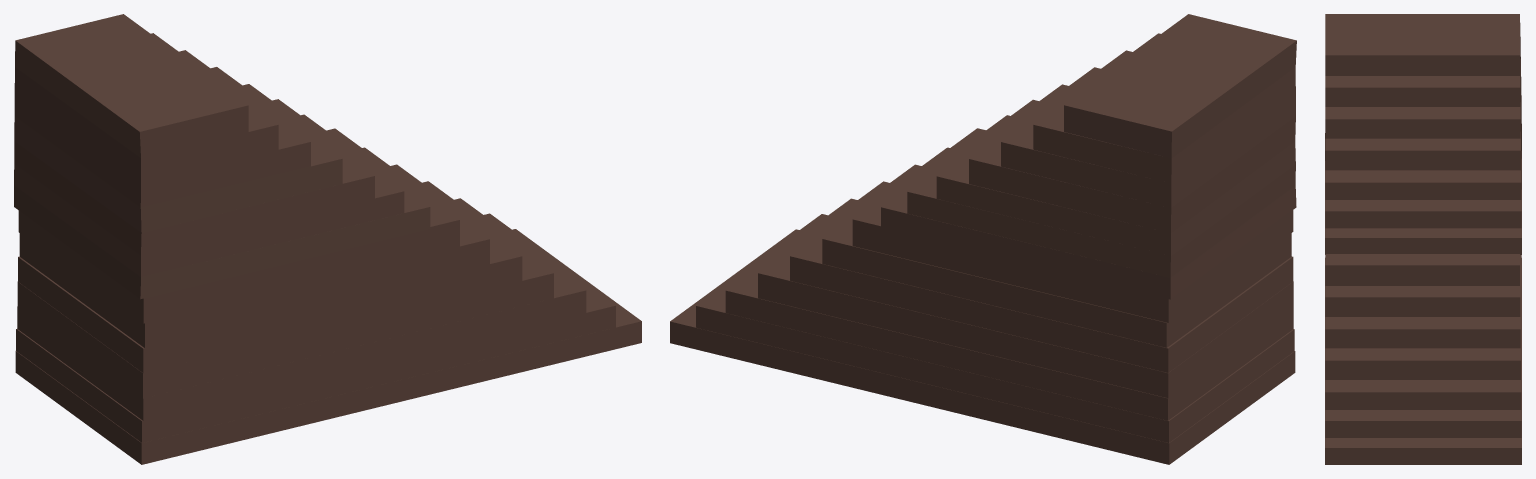
Rendered from Stairs.fbx.
3 renders of one model, left to right at view 1: azimuth 30°, elevation 25°; view 2: azimuth 150°, elevation 25°; view 3: azimuth 270°, elevation 25°, orthographic. The views are drawn at different scales.
Parts seen in each view (by area): view 1: Cube.009, Cube.010; view 2: Cube.009, Cube.010; view 3: Cube.010, Cube.009.
Part boxes in pixels (x1,y1,x2,y2): Cube.009: (15,128,641,464); Cube.010: (14,14,430,299); Cube.009: (670,128,1295,464); Cube.010: (881,14,1296,299); Cube.010: (1325,14,1521,254); Cube.009: (1325,254,1521,464).
Bounding box in the file's own units: 10040 × 6372 × 4371.
